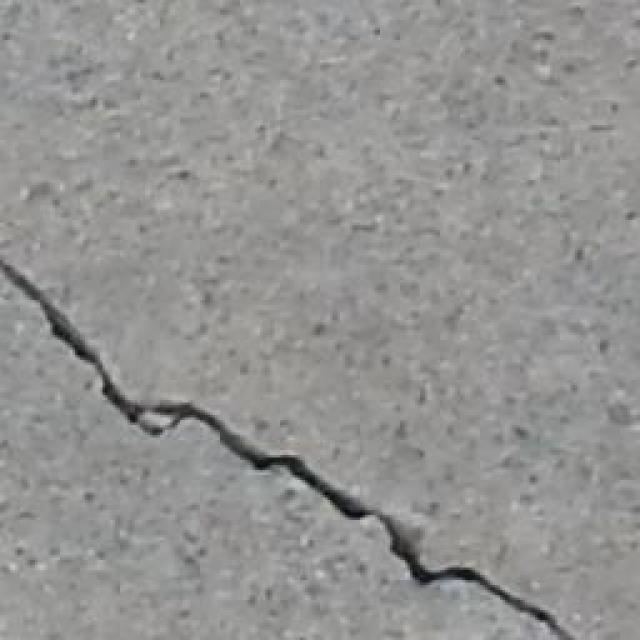concrete-crack: (0, 258, 580, 640)
